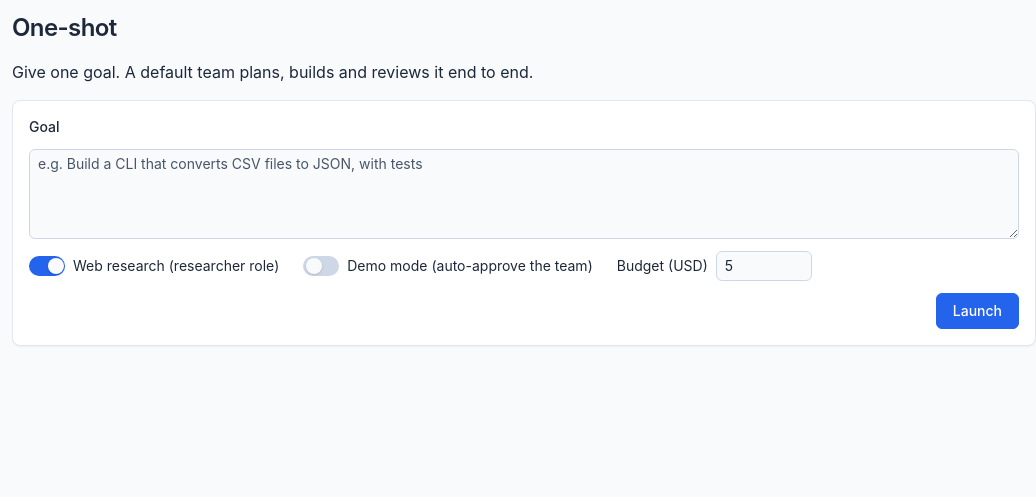
Test: OneShotLauncher › shows validation errors and does not post
The image size is (1036, 497).
Step 1. Click the button "Launch" → [977, 311], box x1=936 y1=293 x2=1019 y2=329
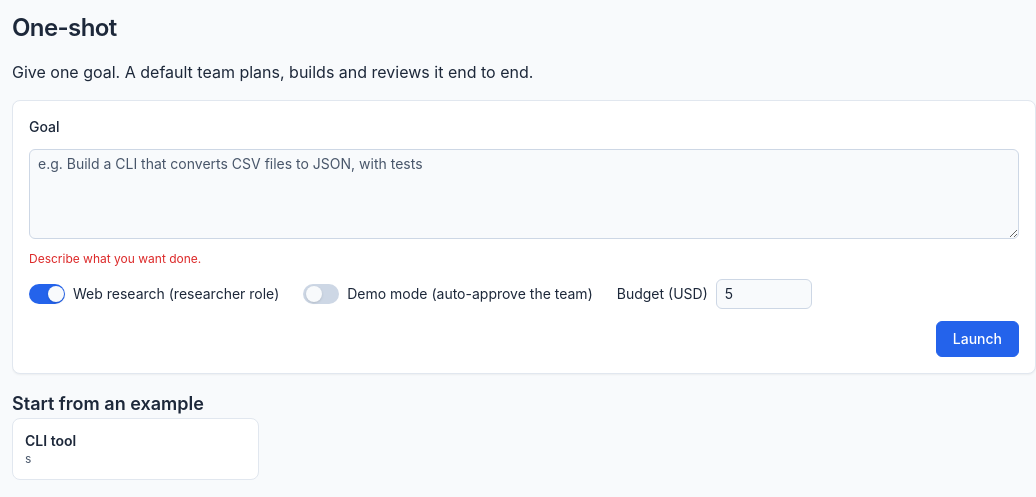
Check: the text "Describe what you want done." is shown, box x1=29 y1=251 x2=201 y2=266
